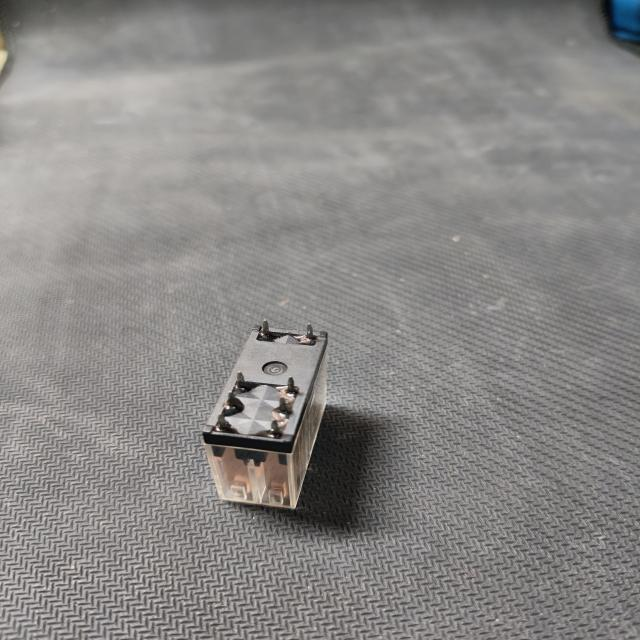relay: (182, 316, 368, 518)
